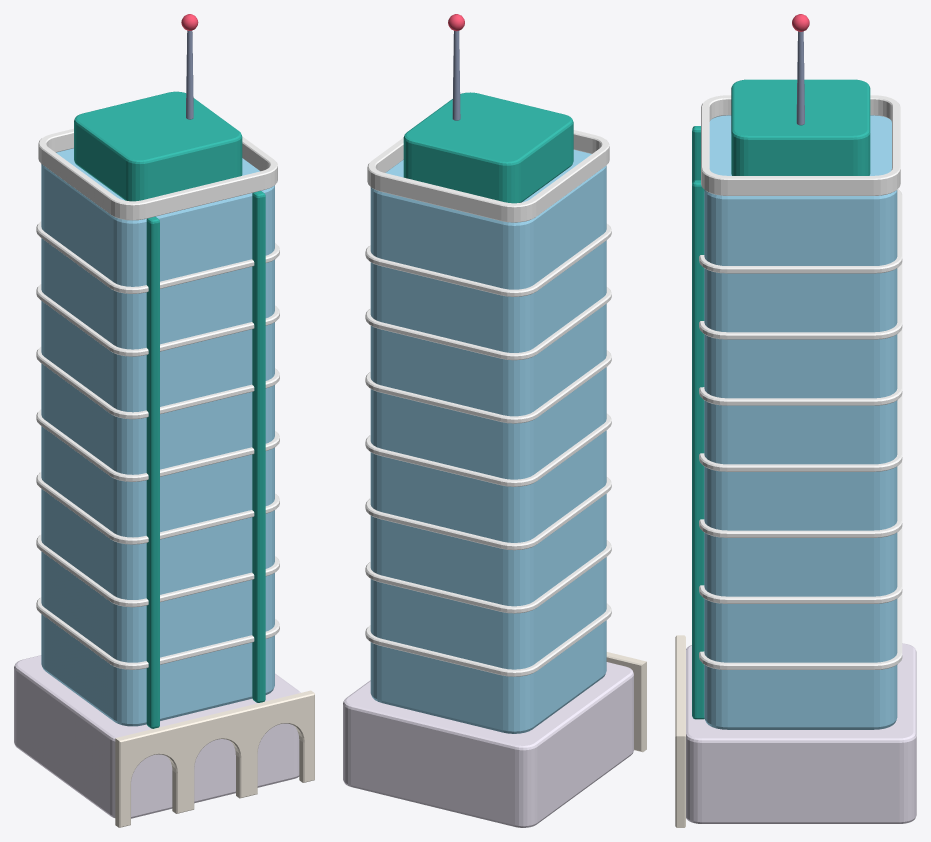
File: torre_b.glb
3 renders of one model, left to right at view 1: azimuth 30°, elevation 25°; view 2: azimuth 150°, elevation 25°; view 3: azimuth 270°, elevation 25°, orthographic. The views are drawn at different scales.
Parts seen in each view (by area): view 1: torre_b_vidro, torre_b_corpo; view 2: torre_b_vidro, torre_b_corpo; view 3: torre_b_vidro, torre_b_corpo.
Part boxes in pixels (<box>): torre_b_vidro: <box>41,148,274,726</box>; torre_b_corpo: <box>14,14,314,827</box>; torre_b_vidro: <box>370,149,606,733</box>; torre_b_corpo: <box>343,14,646,827</box>; torre_b_vidro: <box>704,115,897,729</box>; torre_b_corpo: <box>675,14,916,827</box>.
Size of the model in its own units: 11.12 by 40.08 by 11.25.
